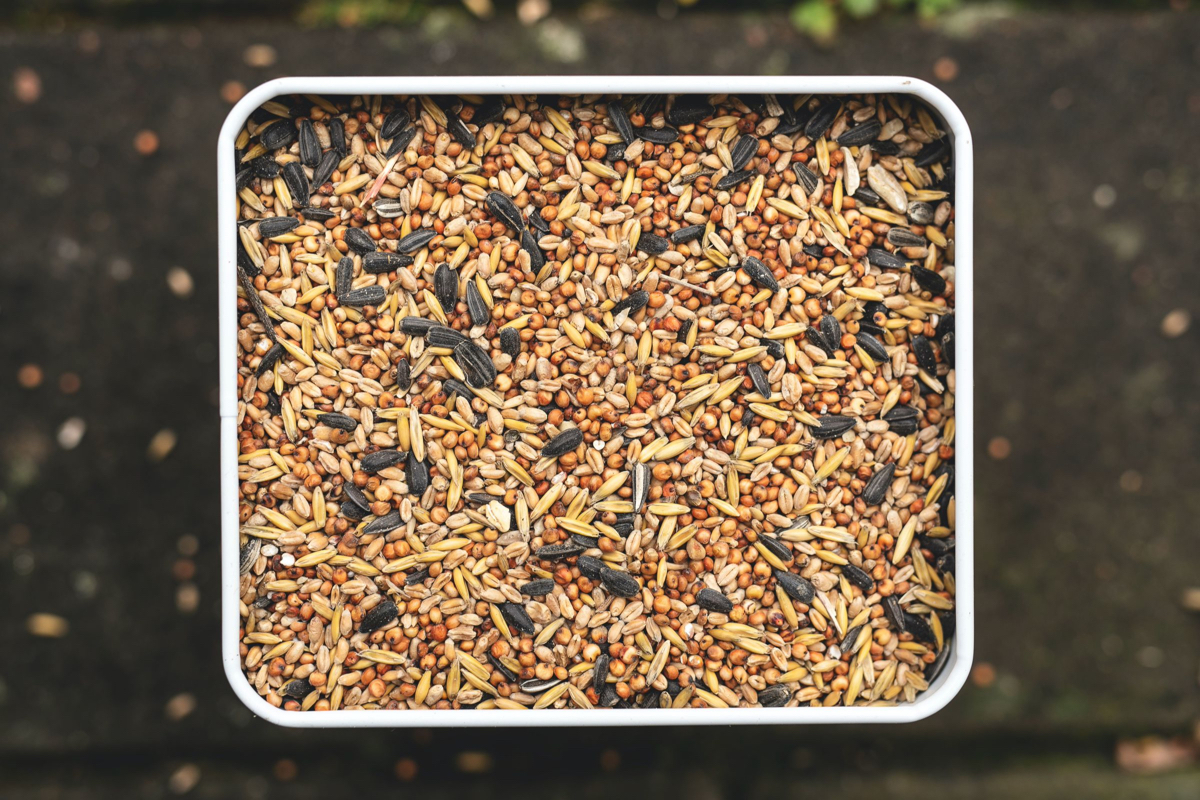seed: (240, 121, 952, 705)
